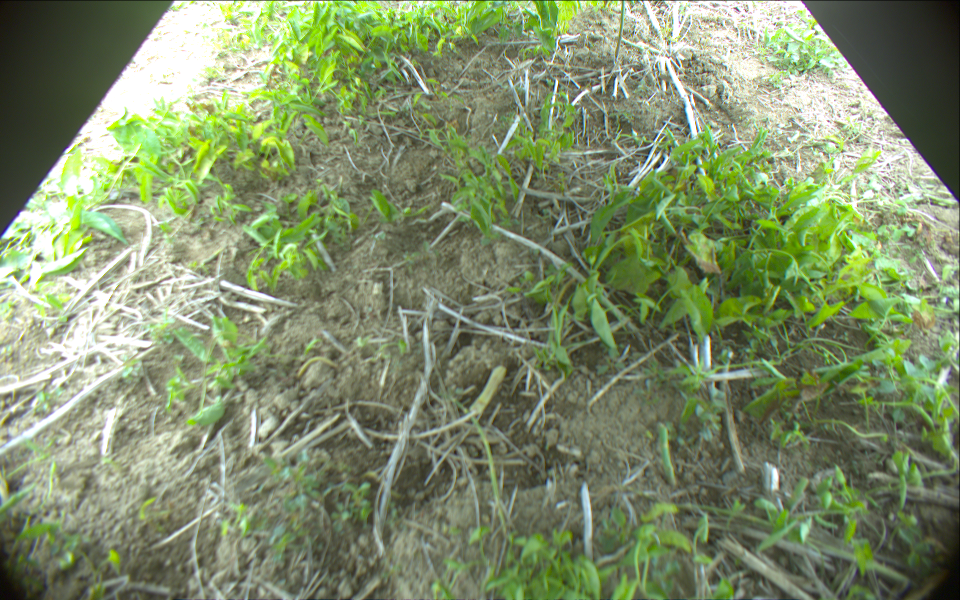aspa: (657, 423, 679, 486), (614, 1, 626, 63)
